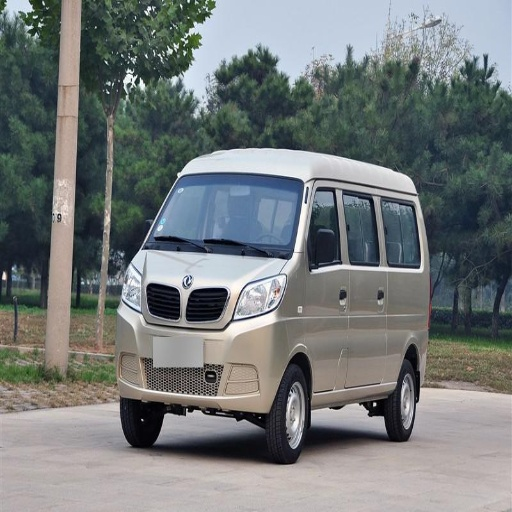front_bumper: (119, 272, 288, 409)
front_glass: (146, 176, 304, 256)
front_left_door: (306, 183, 353, 392)
trunk: (390, 272, 430, 360)
